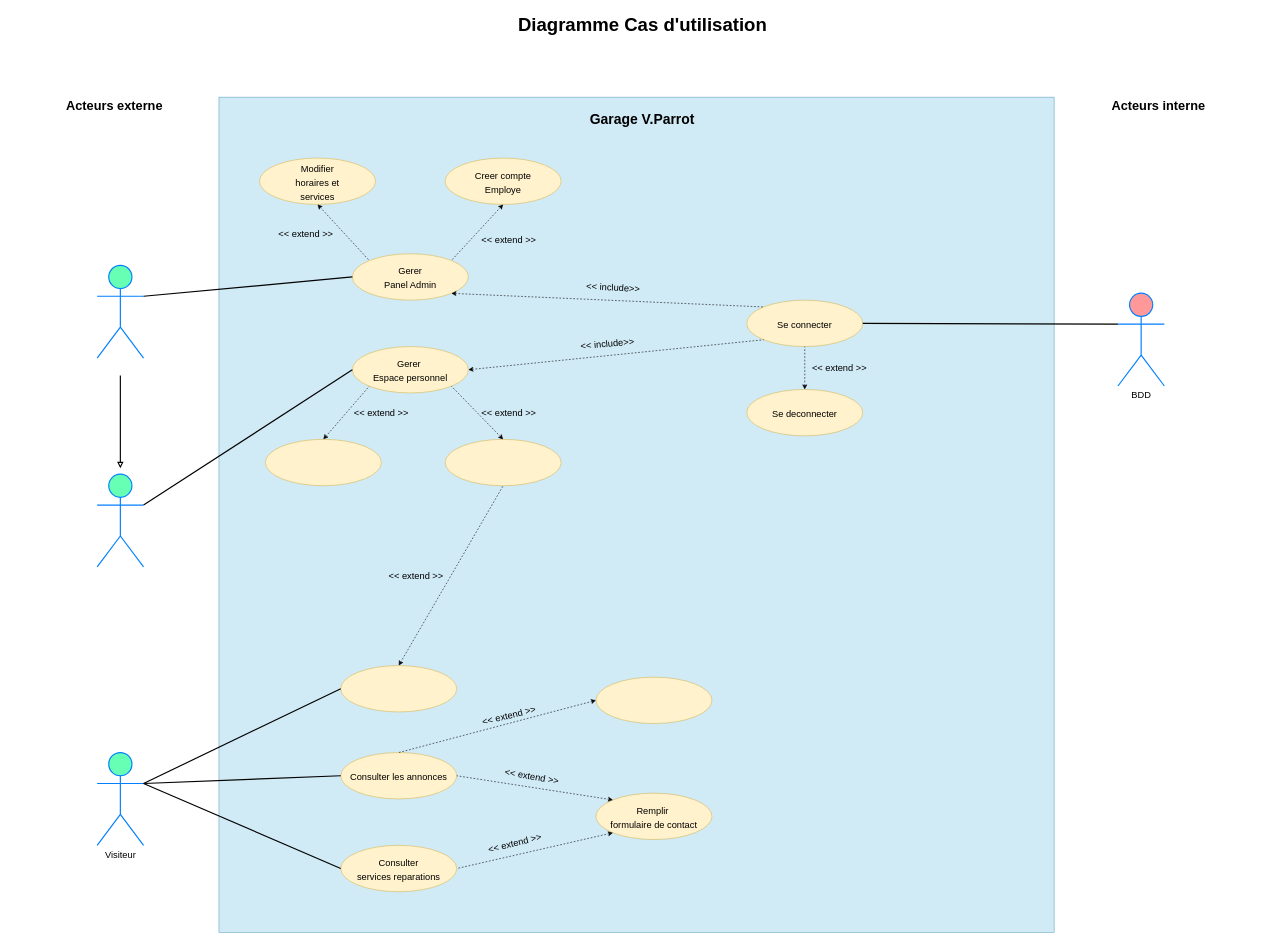
This 1273x943 diagram has some shape labels left out. Here are the shapes that lost their labels. From the top down, the box of each, then its label:
(96, 264, 144, 358): Admin
(265, 439, 381, 486): Gerer une annonce
(445, 439, 561, 486): Gerer avis clientele
(96, 473, 144, 567): Employe
(340, 665, 457, 712): Remplir Avis client
(595, 677, 712, 724): Filtrer les annonces
